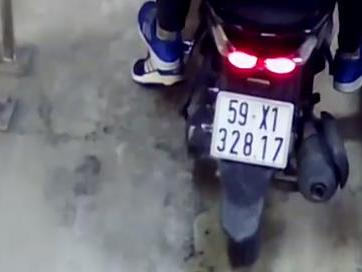num_plate: (210, 89, 295, 170)
